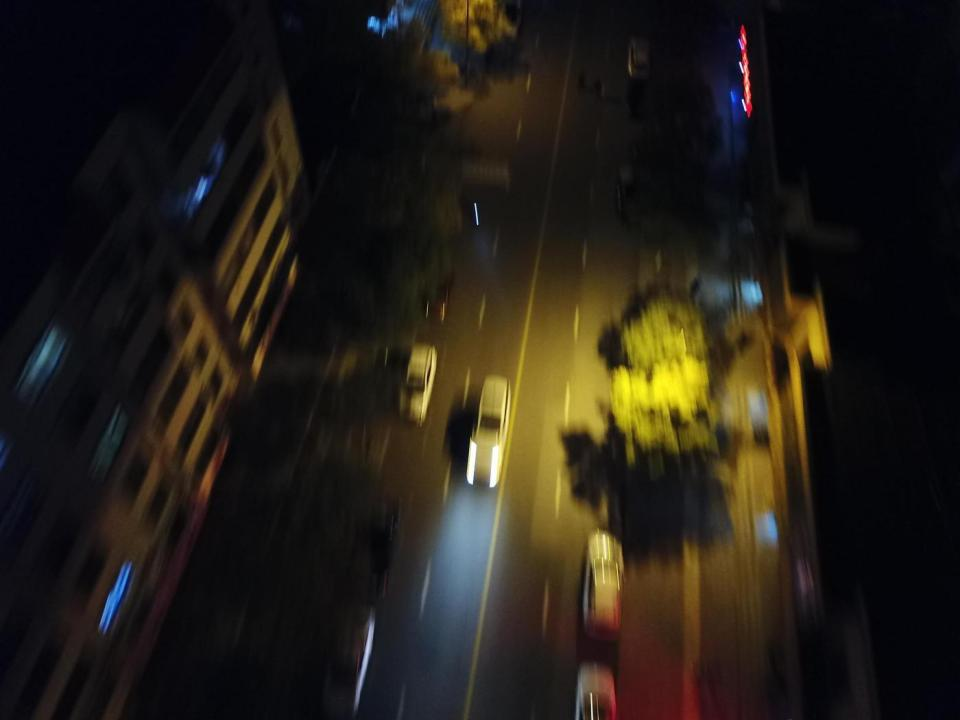car: (320, 604, 376, 719), (466, 374, 511, 488), (579, 528, 623, 638), (407, 250, 452, 324), (398, 342, 436, 425), (617, 160, 658, 226), (574, 660, 618, 720), (491, 0, 523, 39), (627, 36, 653, 81)
